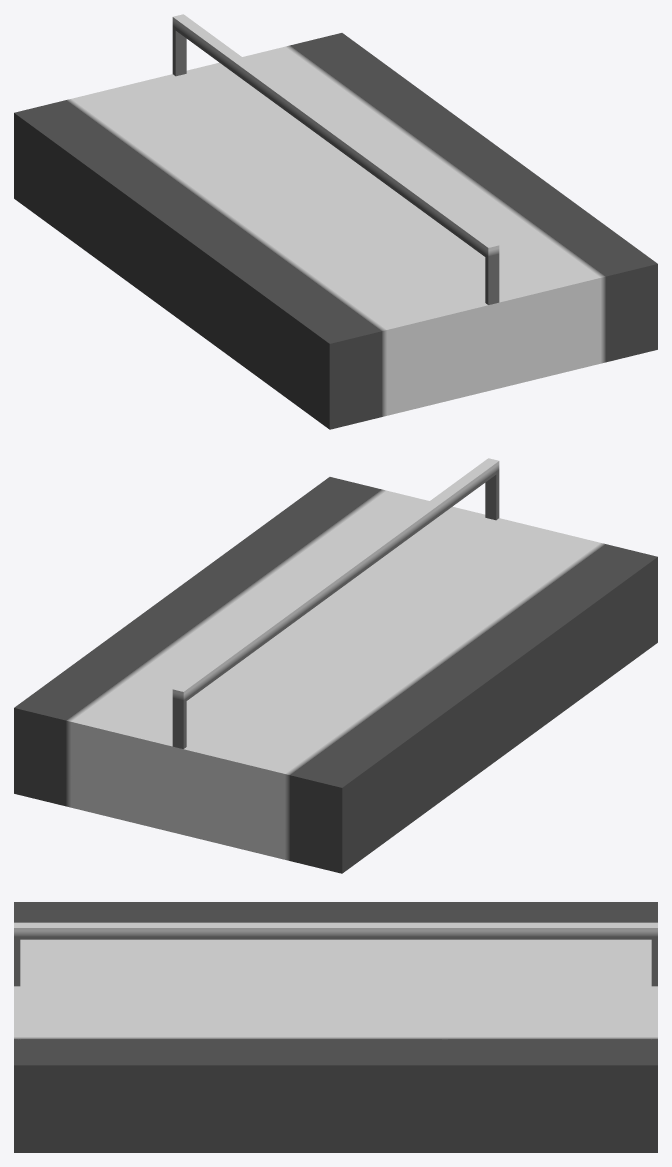
File: Barrier.fbx
3 views of the same model, one above another, from view 1: azimuth 30°, elevation 25°; view 2: azimuth 150°, elevation 25°; view 3: azimuth 270°, elevation 25° (orthographic).
Visible parts, largest first — view 1: Barrier; view 2: Barrier; view 3: Barrier.
Boxes of the visible parts, box(x1,y1,x2,y2) form: Barrier: box(14, 14, 657, 429); Barrier: box(14, 458, 657, 873); Barrier: box(14, 902, 657, 1152).
Size of the model in its own units: 60 by 25 by 100.
Materials: 1 (1 with a texture image).
